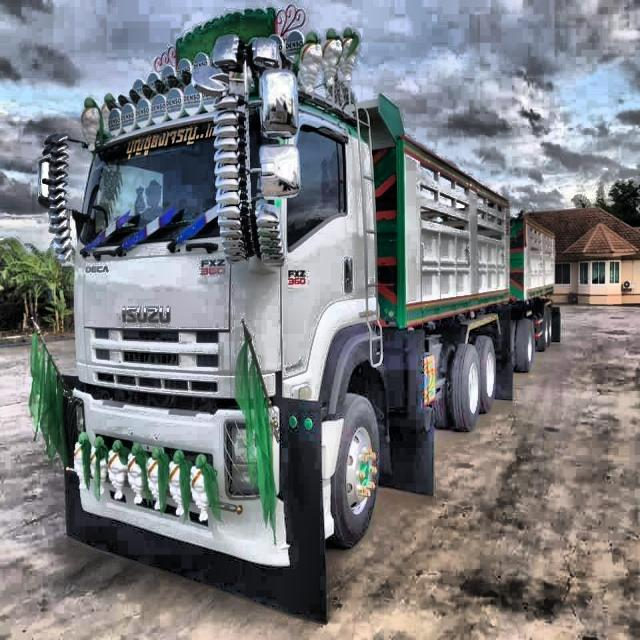trailer: (37, 23, 565, 585)
